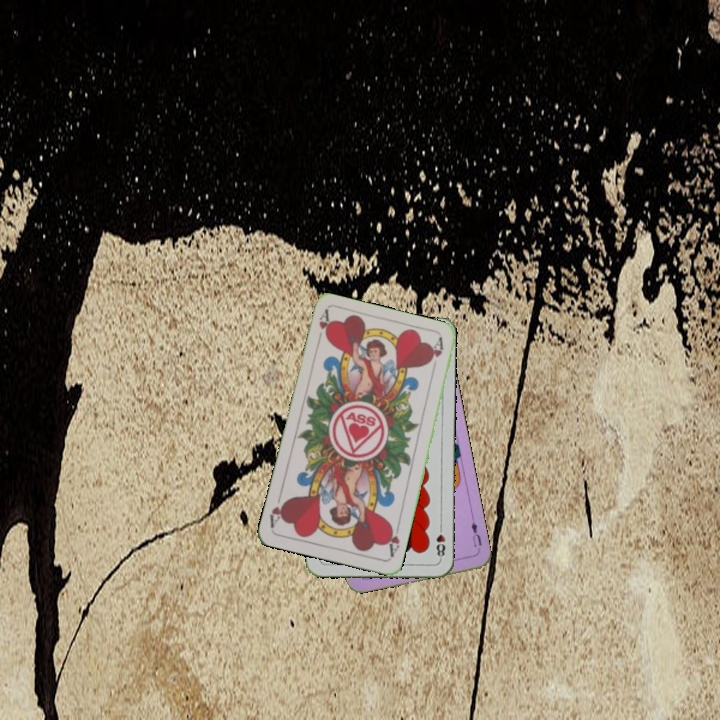EU: (467, 518, 484, 554)
H8: (432, 521, 448, 562)
HA: (382, 520, 403, 560), (313, 307, 334, 347)
